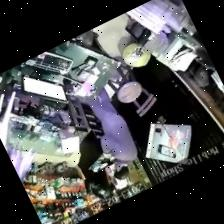person: (84, 88, 136, 179), (77, 138, 113, 209)
